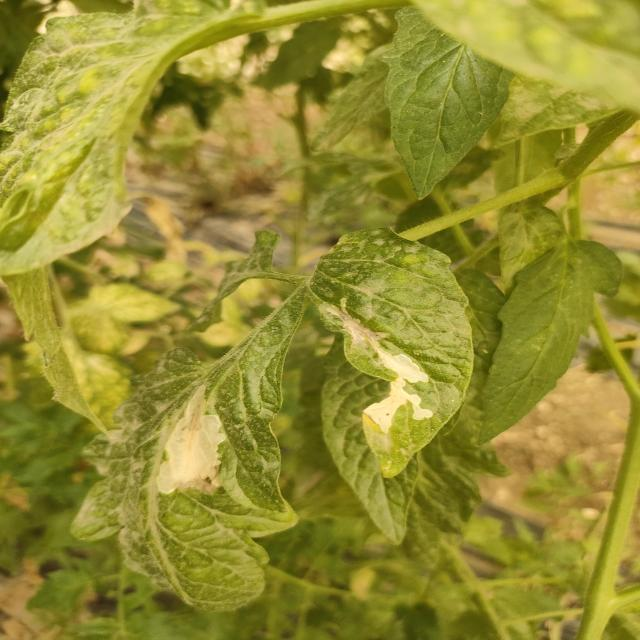Tuta absoluta: (341, 298, 439, 437), (157, 408, 227, 496)
